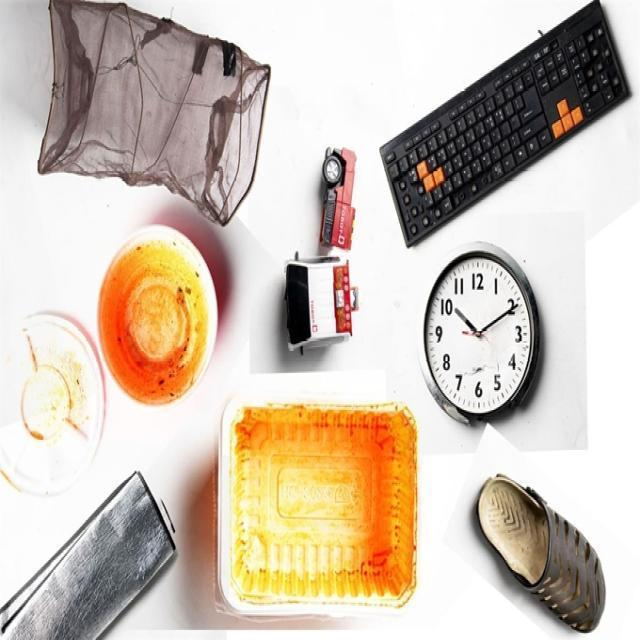disposable: (192, 366, 474, 640)
